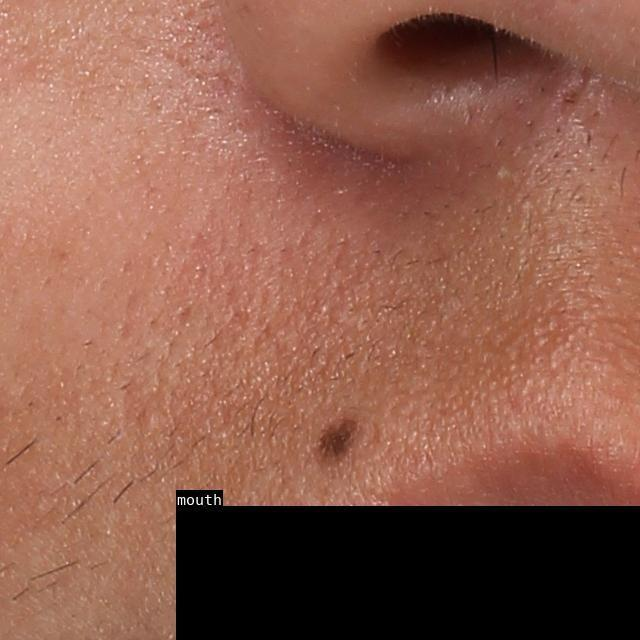nevus: (298, 403, 369, 470)
